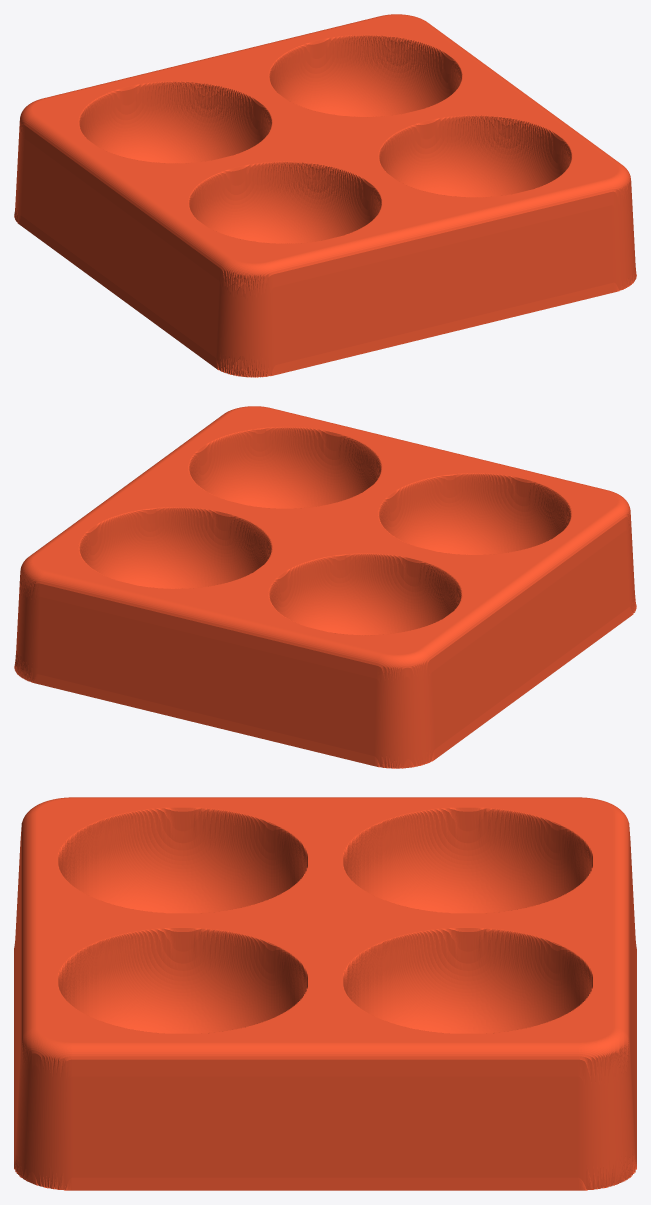
The model's file is mold.glb.
3 views of the same model, one above another, from view 1: azimuth 30°, elevation 25°; view 2: azimuth 150°, elevation 25°; view 3: azimuth 270°, elevation 25° (orthographic). The views are drawn at different scales.
Visible parts, largest first — view 1: geometry_0; view 2: geometry_0; view 3: geometry_0.
Boxes of the visible parts, x1,y1,x2,y2 form: geometry_0: (14, 14, 636, 377); geometry_0: (14, 406, 636, 768); geometry_0: (14, 797, 636, 1190).
Size of the model in its own units: 0.0962 by 0.0235 by 0.0962.
